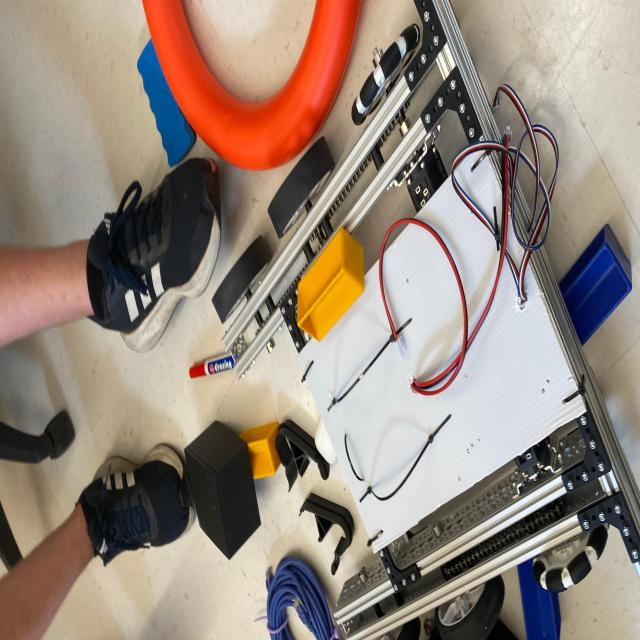blue-specimen: (559, 224, 632, 345), (517, 558, 560, 640)
yellow-specimen: (297, 229, 364, 341), (240, 421, 281, 479)
